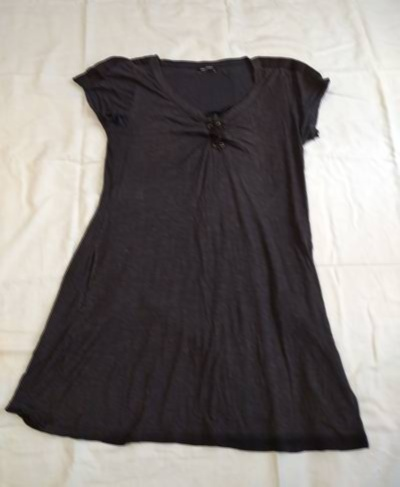Dress: (26, 31, 388, 462)
